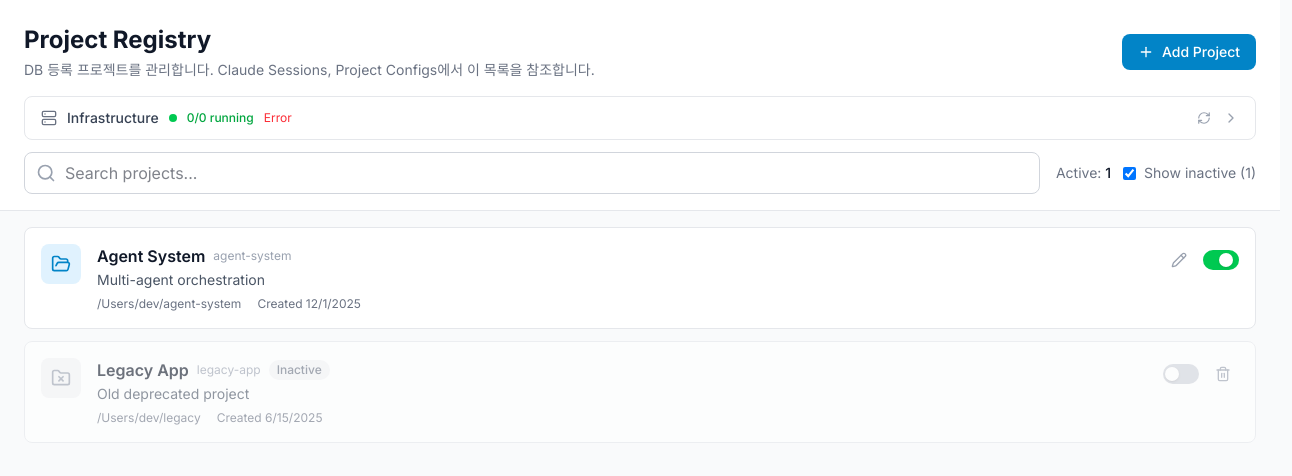
ProjectManagementPage › project detail panel › shows info tab by default with project details
This screenshot has width=1292, height=476.
Click the heading "Agent System": (151, 256) [97,244,205,268]
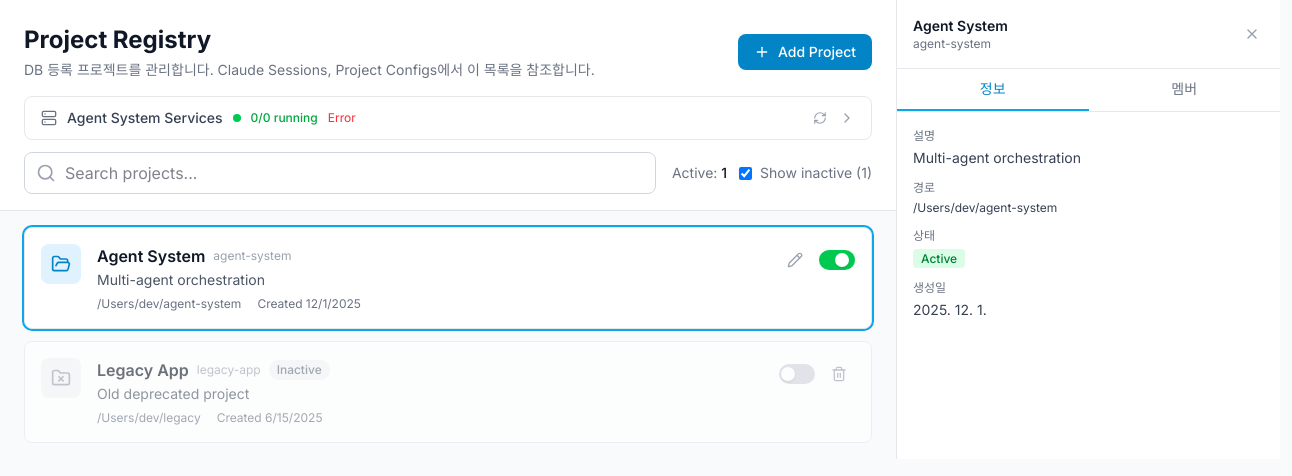
Expected: the text "Active" is shown, [913,249,965,268]
